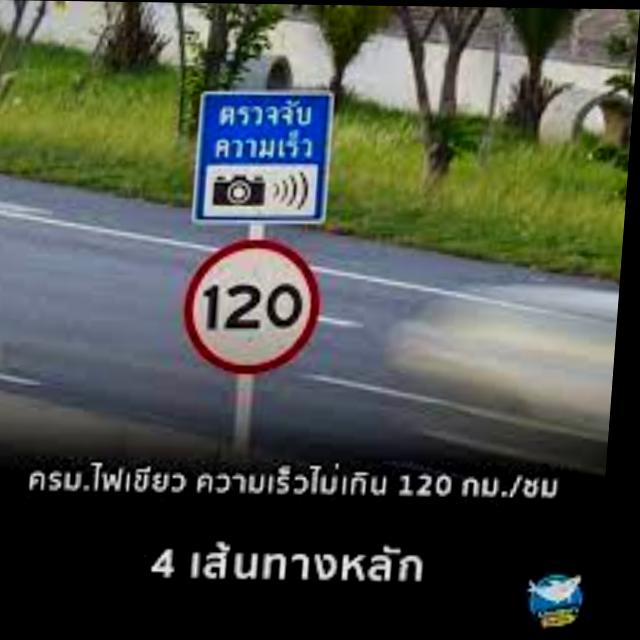limit120: (183, 230, 330, 382)
